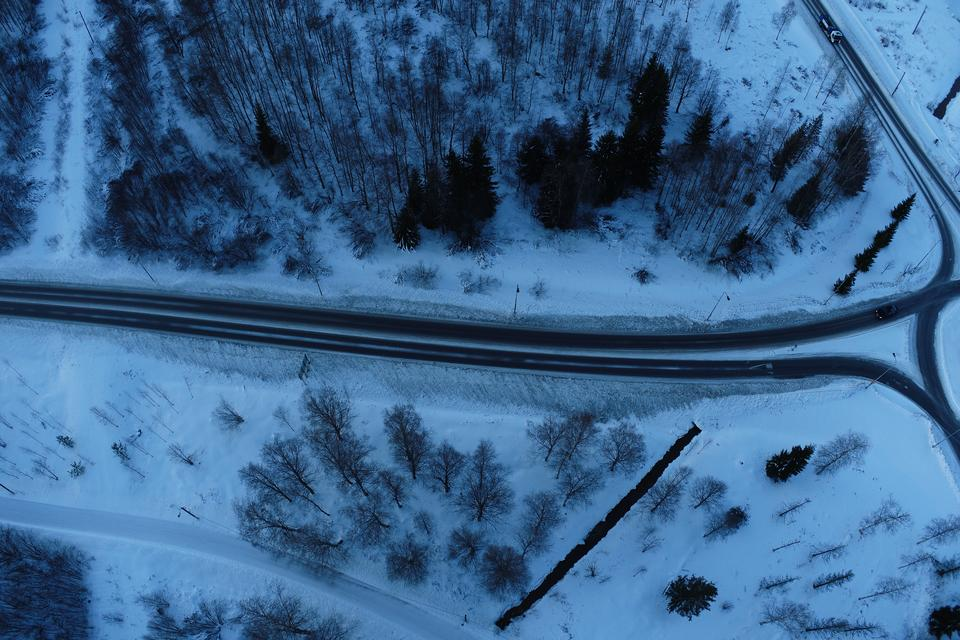roundabout: (888, 201, 960, 479)
